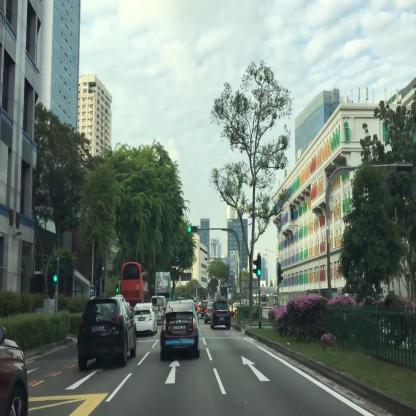green_traffic_light: (257, 255, 260, 276), (188, 226, 198, 232)
